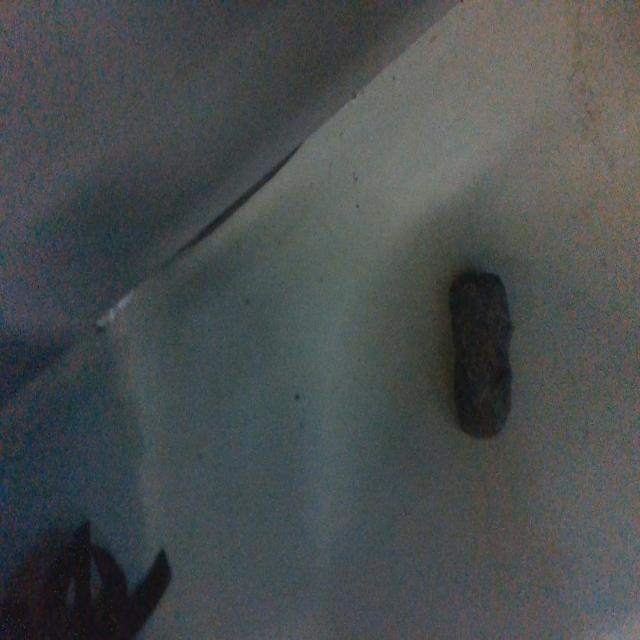stone: (449, 271, 514, 439)
